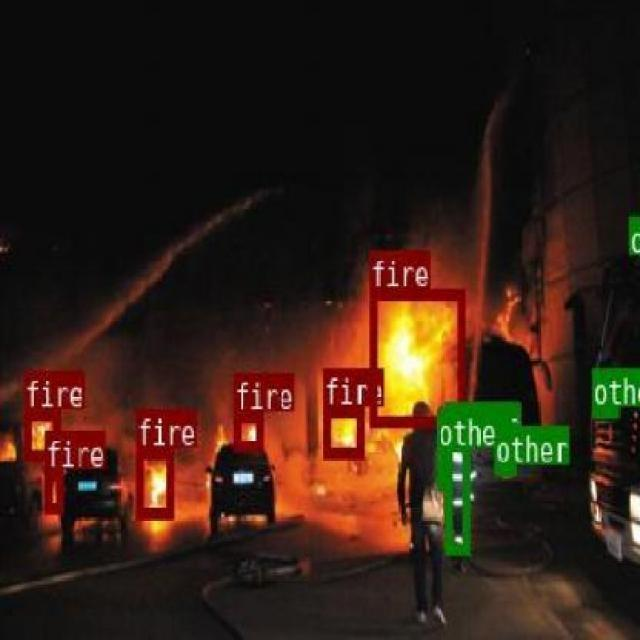fire: (369, 287, 463, 424), (136, 446, 173, 517), (322, 404, 364, 457), (24, 409, 58, 458), (233, 410, 262, 448), (45, 467, 62, 512)
